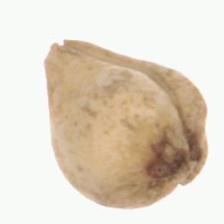L1: (154, 141, 210, 204), (43, 36, 73, 69)
L2: (44, 39, 209, 209)
